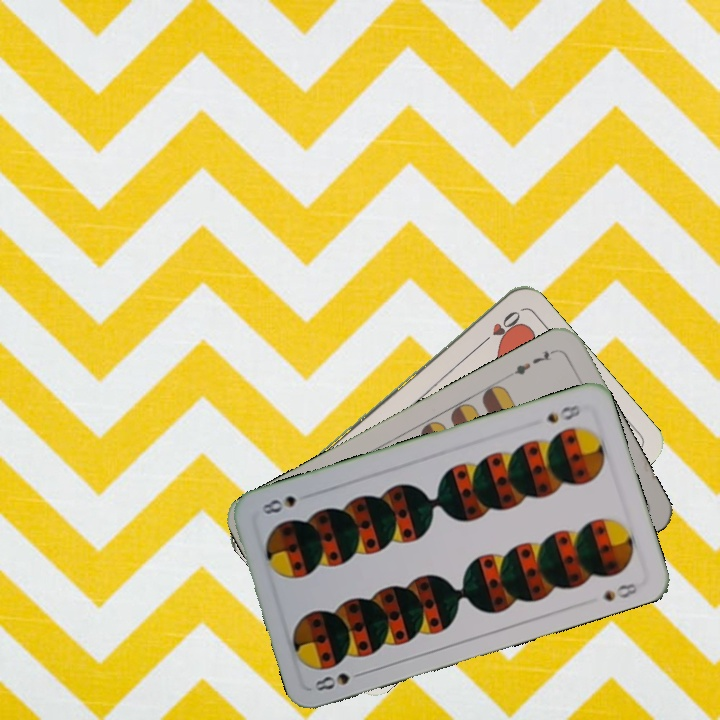E7: (504, 345, 559, 380)
HO: (474, 307, 523, 350)
S8: (310, 667, 368, 694), (542, 400, 583, 426)
